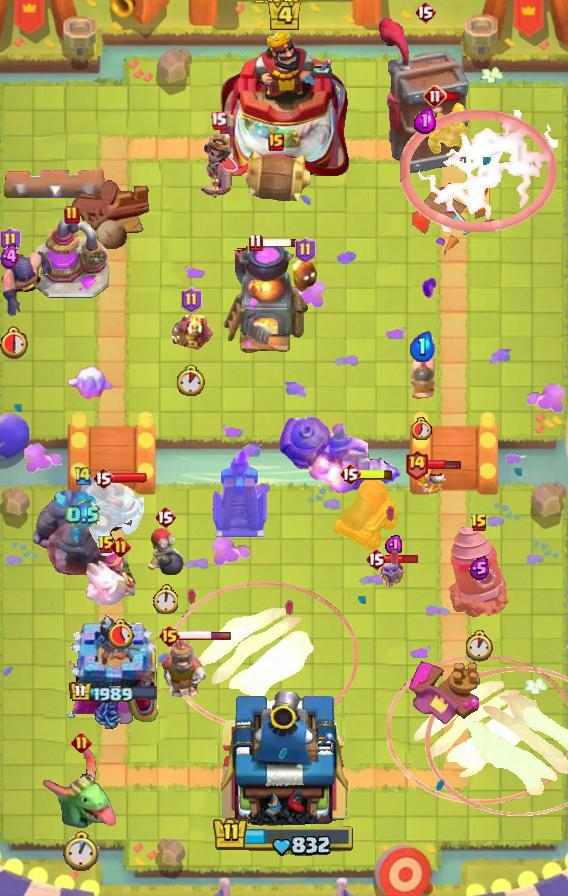barbarian-evolution: (400, 110, 558, 232)
bat: (84, 559, 128, 605)
bomber: (291, 256, 319, 294)
bomber-evolution: (196, 134, 240, 202)
bowler: (168, 314, 214, 352)
cannon: (102, 550, 138, 600)
cannoneer-tower: (33, 475, 133, 575)
clock: (212, 816, 356, 858)
dart-goblin: (378, 16, 472, 176)
earthquake: (155, 635, 209, 701)
electro-spirit: (66, 500, 100, 530), (409, 331, 435, 362), (414, 108, 436, 134), (0, 242, 20, 269), (469, 556, 490, 581), (385, 534, 403, 554)
electro-wizard: (43, 747, 119, 833)
elixir: (63, 832, 99, 873), (1, 325, 31, 359), (464, 630, 495, 662), (106, 618, 135, 649), (177, 364, 205, 395), (152, 584, 178, 614), (412, 417, 432, 440)
elixir-golem-small: (86, 481, 144, 559)
emote: (178, 630, 232, 641), (358, 468, 394, 481), (426, 459, 462, 471), (112, 472, 148, 484), (385, 553, 420, 565), (262, 236, 299, 247), (446, 91, 463, 102)
executioner: (406, 348, 438, 402)
goblin: (377, 555, 409, 595)
heal-spirit: (418, 467, 450, 499)
hunter: (222, 246, 310, 356)
ice-golem: (145, 527, 185, 575)
ice-spirit-evolution-symbol: (210, 447, 270, 539)
ice-wizard: (170, 581, 359, 731), (388, 655, 568, 805), (424, 667, 567, 817)
king-tower: (218, 27, 350, 181), (214, 684, 354, 826)
magic-archer: (449, 524, 509, 618)
minion: (0, 169, 108, 199)
mirror: (65, 365, 115, 403)
monk: (0, 249, 54, 319)
pekka: (33, 218, 111, 300)
queen-tower: (65, 614, 162, 730)
royal-delivery: (427, 101, 471, 157)
royal-giant-evolution: (332, 478, 400, 552)
selected: (69, 681, 159, 705)
text: (403, 448, 428, 479), (423, 84, 447, 108), (159, 624, 182, 648), (295, 237, 316, 263), (181, 287, 202, 313), (414, 0, 436, 24), (339, 462, 361, 486), (92, 466, 114, 490), (154, 505, 176, 529), (365, 547, 387, 571), (0, 227, 20, 253), (110, 535, 131, 557), (71, 731, 92, 753), (73, 465, 93, 487), (470, 513, 488, 533), (97, 535, 115, 555), (209, 111, 227, 130), (64, 205, 80, 225), (268, 133, 284, 151), (248, 232, 263, 251)
the-log: (239, 150, 313, 202)
wizard: (278, 416, 402, 494)
